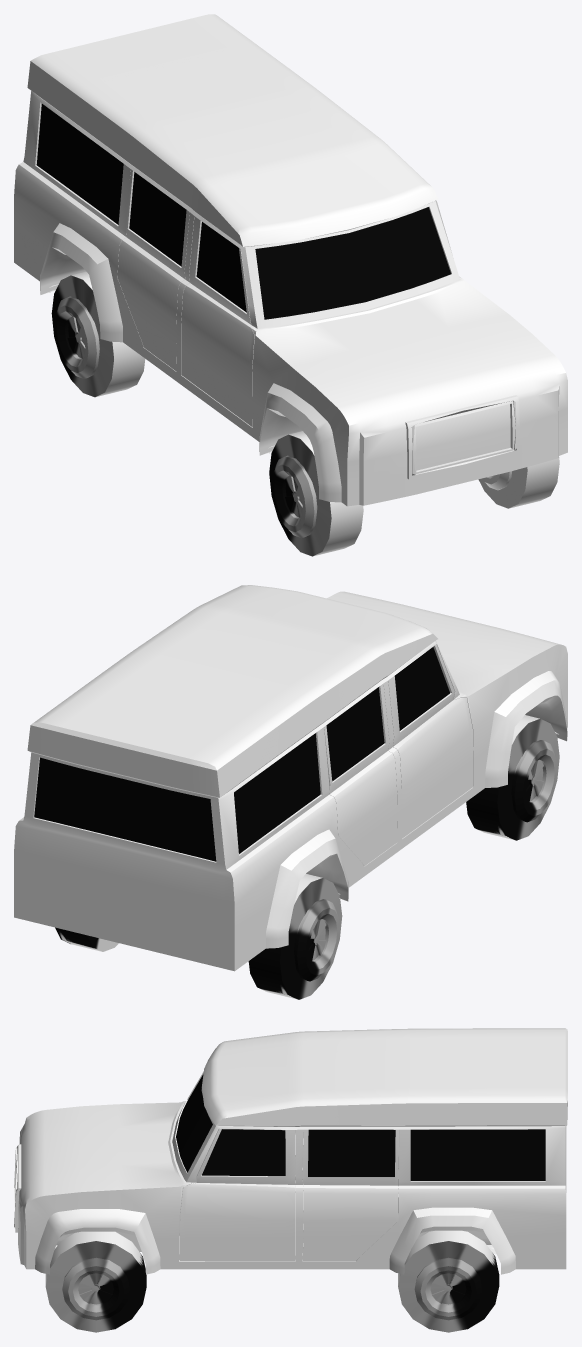
Rendered from voiture.obj.
3 renders of one model, top to bottom at view 1: azimuth 30°, elevation 25°; view 2: azimuth 150°, elevation 25°; view 3: azimuth 270°, elevation 25°, orthographic. The views are drawn at different scales.
Parts seen in each view (by area): view 1: voiture, roueAvantD, roueArrierD, roueAvantG; view 2: voiture, roueArrierD, roueAvantD, roueArrierG; view 3: voiture, roueAvantG, roueArrierG.
Boxes of the visible parts, x1,y1,x2,y2 form: voiture: (14, 14, 567, 506); roueAvantD: (269, 431, 363, 556); roueArrierD: (51, 271, 145, 397); roueAvantG: (478, 456, 559, 508); voiture: (14, 585, 567, 971); roueArrierD: (248, 874, 342, 999); roueAvantD: (466, 715, 559, 840); roueArrierG: (55, 927, 118, 951); voiture: (14, 1028, 567, 1274); roueAvantG: (45, 1231, 146, 1332); roueArrierG: (398, 1230, 499, 1332).
Size of the model in its own units: 1.52 by 1.6 by 3.57.
Materials: 1 (1 with a texture image).
